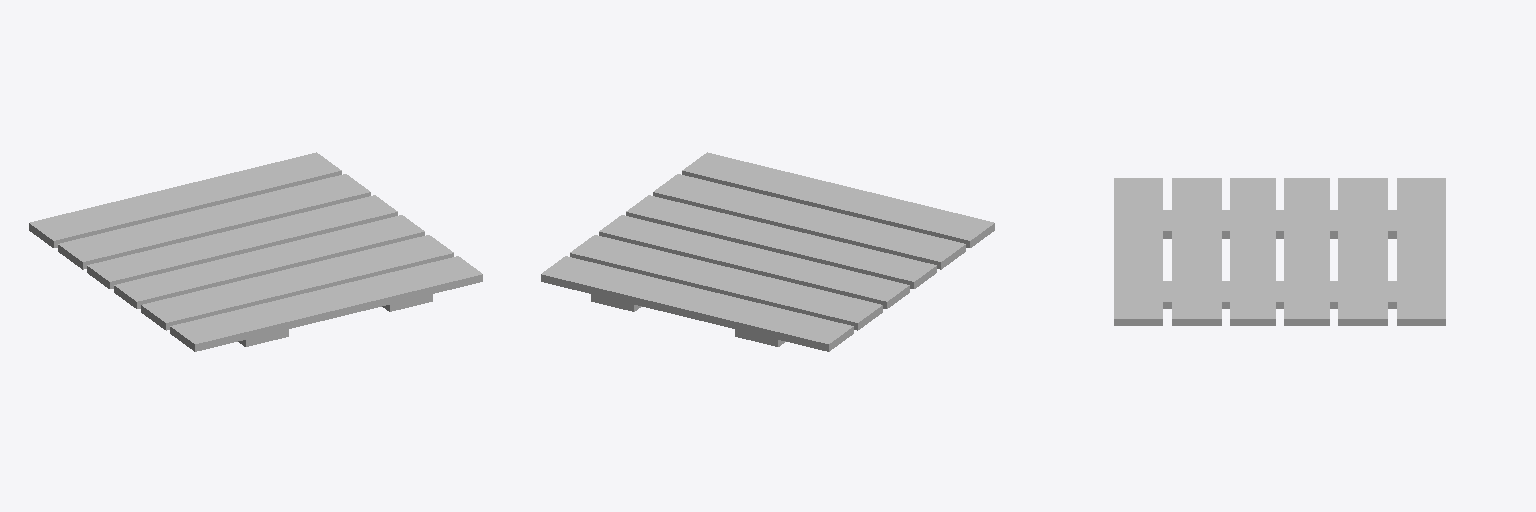
File: scaffold_low.obj
3 renders of one model, left to right at view 1: azimuth 30°, elevation 25°; view 2: azimuth 150°, elevation 25°; view 3: azimuth 270°, elevation 25°, orthographic.
Parts seen in each view (by area): view 1: scaffold_low_Cube.2473; view 2: scaffold_low_Cube.2473; view 3: scaffold_low_Cube.2473.
Part boxes in pixels (bbox=[...]): scaffold_low_Cube.2473: bbox=[29, 152, 482, 351]; scaffold_low_Cube.2473: bbox=[541, 152, 994, 351]; scaffold_low_Cube.2473: bbox=[1114, 178, 1445, 325].
Bounding box in the file's own units: 4 × 0.2 × 4.